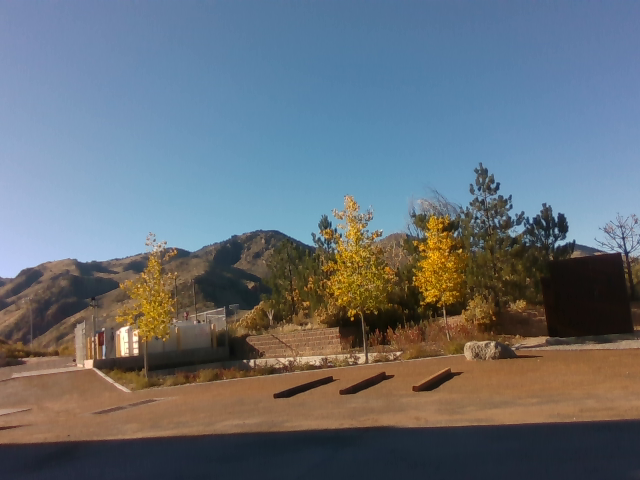Dunnage: (268, 362, 466, 405)
